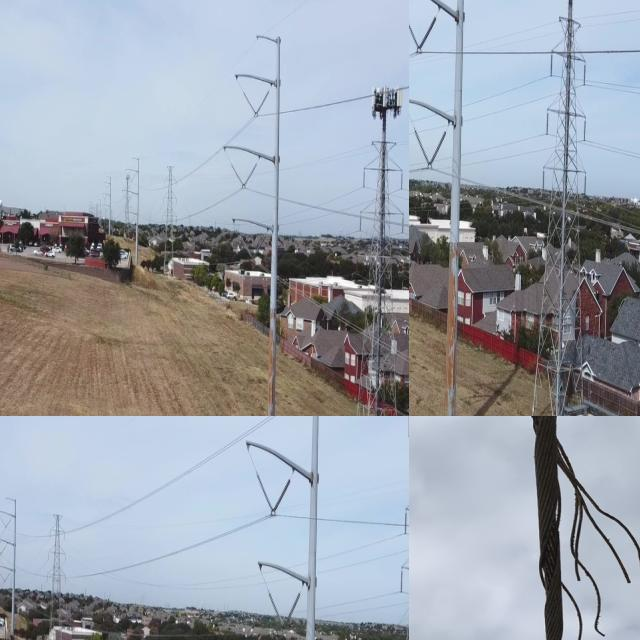杆塔: (520, 9, 602, 416), (348, 118, 409, 416), (38, 500, 72, 640), (161, 163, 180, 286)
正常绝缘子: (252, 464, 279, 522), (412, 12, 441, 64), (267, 472, 295, 524), (409, 120, 435, 174), (278, 586, 304, 640), (423, 125, 451, 175), (263, 582, 288, 632), (238, 157, 262, 197), (235, 228, 259, 267), (239, 83, 260, 121), (226, 157, 248, 193), (250, 88, 271, 123), (409, 14, 424, 61), (250, 229, 269, 264), (580, 164, 591, 208), (396, 562, 408, 602), (547, 45, 557, 89), (356, 210, 368, 246), (538, 162, 548, 205), (580, 55, 591, 94), (395, 216, 409, 246), (358, 158, 369, 194), (542, 107, 553, 141), (401, 501, 409, 544), (581, 112, 590, 149), (396, 166, 408, 193)
电缆破损: (466, 416, 640, 640)
